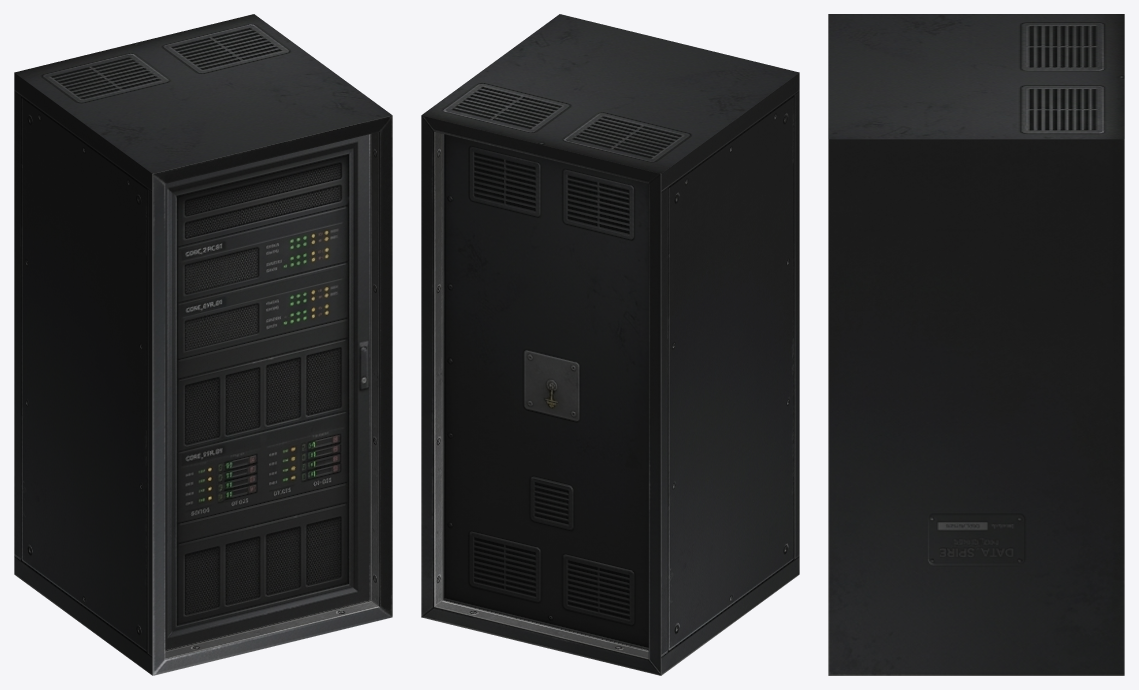
File: serverrack.glb
The picture shows the model from 3 angles, left to right: view 1: azimuth 30°, elevation 25°; view 2: azimuth 150°, elevation 25°; view 3: azimuth 270°, elevation 25°; orthographic projection. The views are drawn at different scales.
Parts seen in each view (by area): view 1: ServerRack; view 2: ServerRack; view 3: ServerRack.
Boxes of the visible parts, x1,y1,x2,y2 form: ServerRack: (14,14,392,675); ServerRack: (421,14,799,675); ServerRack: (828,14,1124,675).
Size of the model in its own units: 1 by 2 by 1.
1 material, 1 textured.
